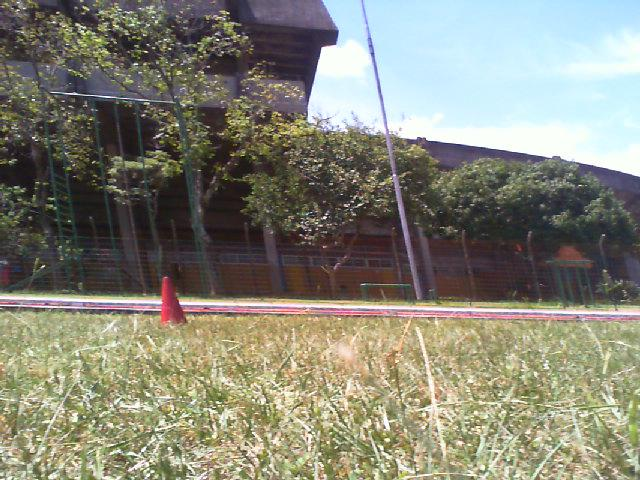0 cone: (160, 276, 187, 325)
